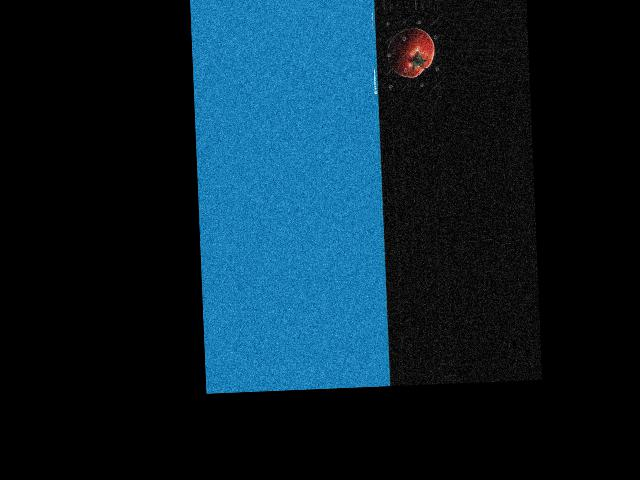tomato: (386, 26, 435, 78)
